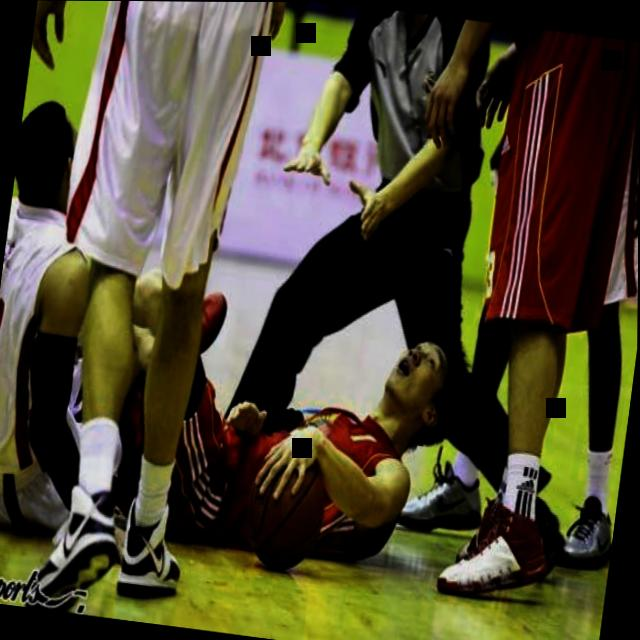Fall-Detected: (0, 46, 289, 598)
